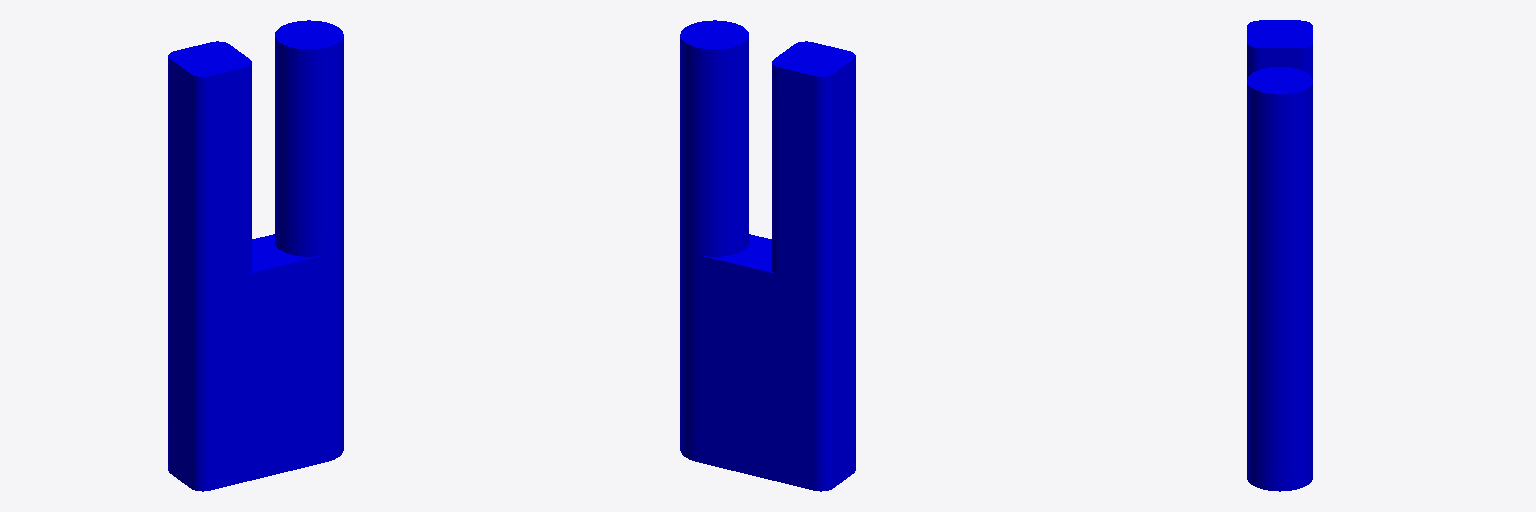
The robot description file, URDF, robot "board3_block4":
<?xml version="1.0"?>
<robot name="board3_block4">
    <link name="board3_block4">
        <visual>
            <origin xyz="0 0 0 " rpy=" 0 0 0"/>
            <geometry>
                <mesh filename="../meshes/SIMO_Board3_Block4.stl" scale="0.001 0.001 0.001"/>
            </geometry>
            <material name="red">
                <color rgba="0.0 0.0 1.0 1.0"/>
            </material>
        </visual>
        <collision>
            <origin xyz="0 0 0" rpy="0 0 0"/>
            <geometry>
                <mesh filename="../meshes/SIMO_Board3_Block4.stl" scale="0.001 0.001 0.001"/>
            </geometry>
        </collision>
    </link>
</robot>

--- Facts derived from the render (not from the file) ---
Views: 3 orthographic renders of the robot side by side, from view 1: azimuth 30°, elevation 25°; view 2: azimuth 150°, elevation 25°; view 3: azimuth 270°, elevation 25°.
Model board3_block4 with 1 links and 0 joints (none), rooted at board3_block4, posed all joints at 0.
Links seen in each view (by area): view 1: board3_block4; view 2: board3_block4; view 3: board3_block4.
Link boxes in pixels (x1=…): board3_block4: x1=168, y1=20, x2=343, y2=491; board3_block4: x1=680, y1=20, x2=855, y2=491; board3_block4: x1=1247, y1=20, x2=1312, y2=491.
Bounding box of the posed robot: 0.04 × 0.015 × 0.1 m (x, y, z).
1 mesh visuals loaded from 1 distinct referenced files (1 ASCII STL).
